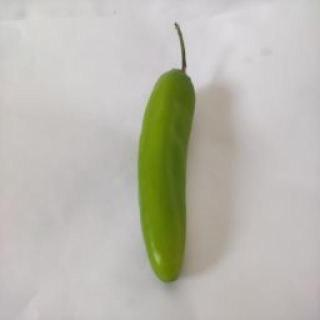Cabai Hijau: (131, 18, 203, 288)
